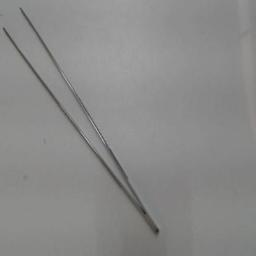DeBakey Dissector: (2, 6, 164, 244)
